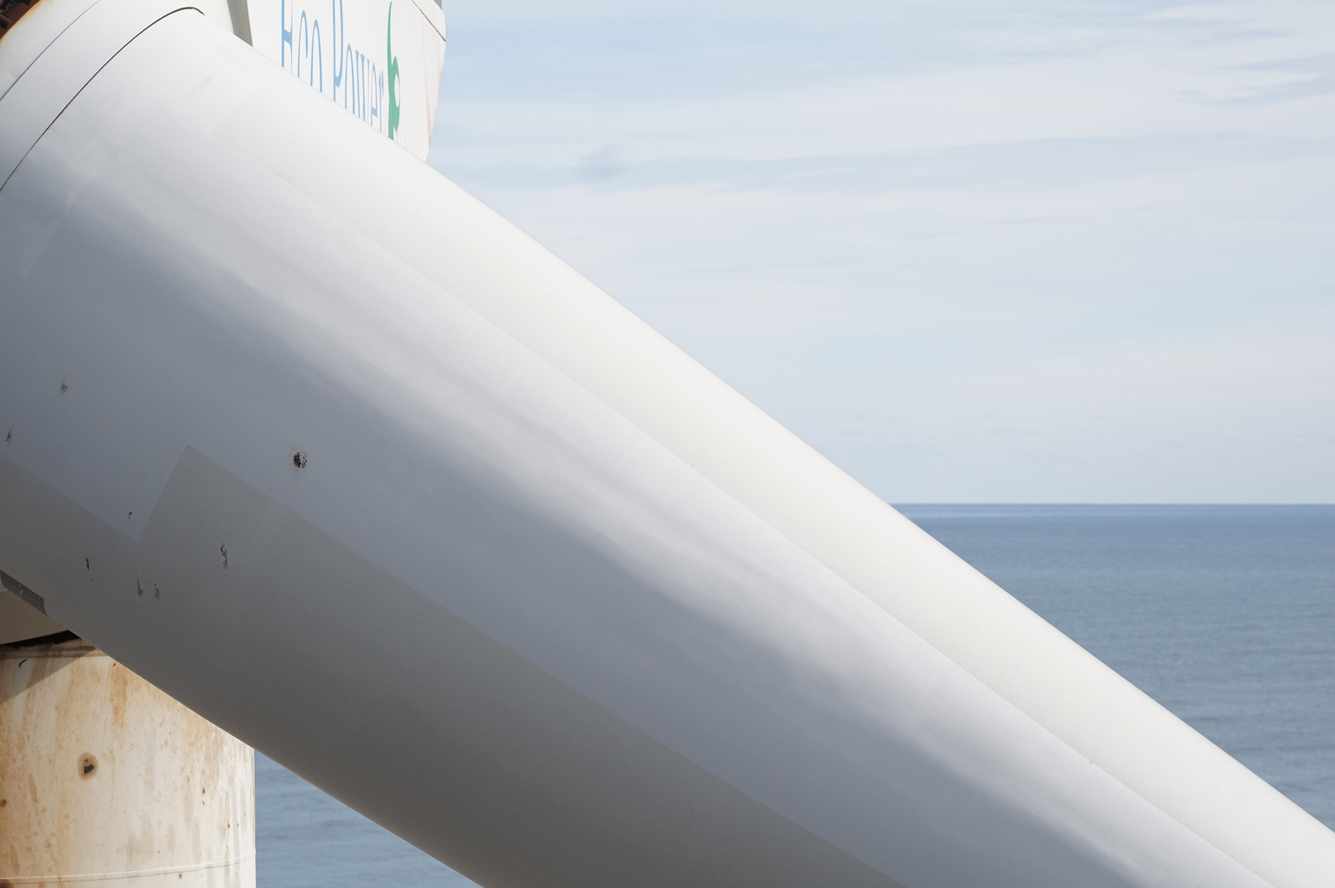Dirt: (291, 445, 310, 473)
